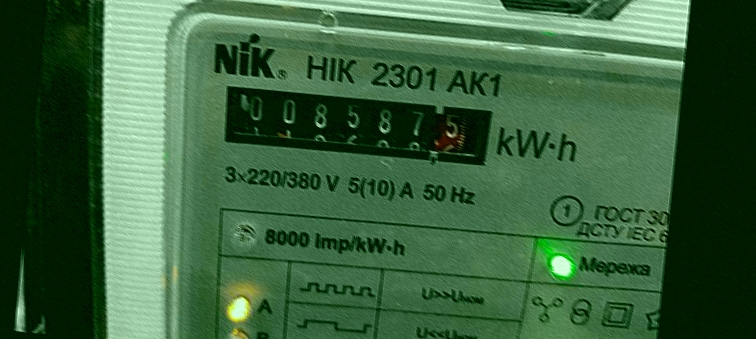0: (245, 93, 265, 123), (279, 97, 299, 127)
5: (442, 112, 462, 143), (343, 102, 363, 132)
7: (407, 108, 426, 139)
8: (375, 105, 394, 137), (311, 101, 330, 131)
screen: (202, 69, 511, 181)
